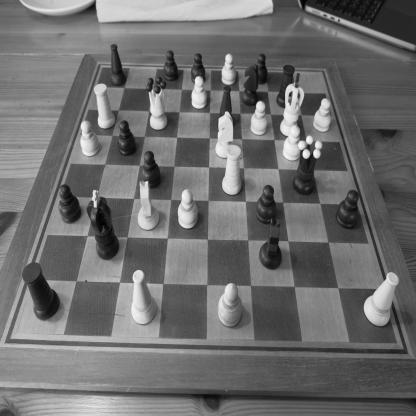black-bishop: (216, 85, 234, 130), (110, 43, 127, 87)
black-king: (86, 189, 120, 261)
black-knight: (258, 217, 283, 271), (242, 62, 260, 108)
black-pawn: (335, 189, 360, 231), (58, 183, 82, 225), (255, 184, 277, 225), (141, 149, 162, 190), (118, 118, 136, 157), (163, 49, 178, 82), (191, 52, 206, 84), (256, 53, 268, 85)
black-queen: (292, 134, 323, 196)
black-rook: (22, 261, 60, 321), (276, 64, 295, 109)
white-bishop: (362, 271, 400, 328), (130, 269, 157, 326)
white-king: (279, 73, 305, 137)
white-knight: (137, 180, 160, 232), (214, 111, 233, 158)
white-pawn: (218, 282, 242, 328), (177, 189, 199, 230), (80, 120, 100, 157), (313, 97, 331, 134), (250, 100, 267, 136), (220, 52, 237, 86), (191, 76, 207, 110)
white-queen: (145, 76, 168, 131)
white-rook: (221, 144, 242, 196), (94, 82, 115, 128)
